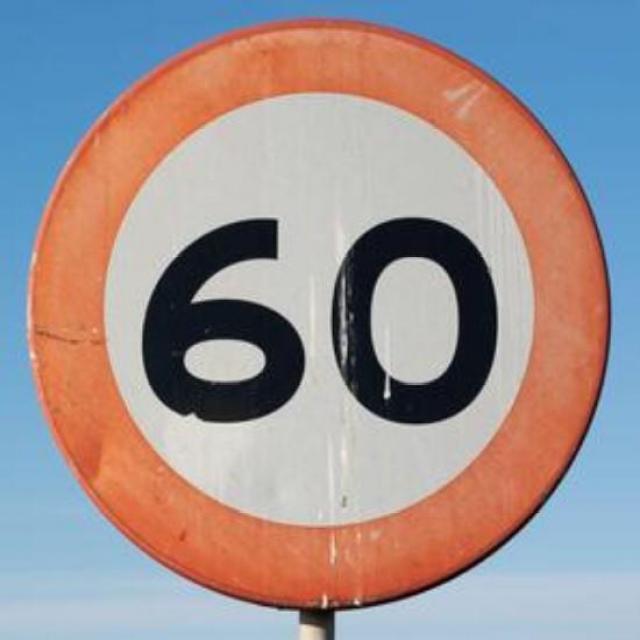traffic_sign: (25, 24, 612, 610)
